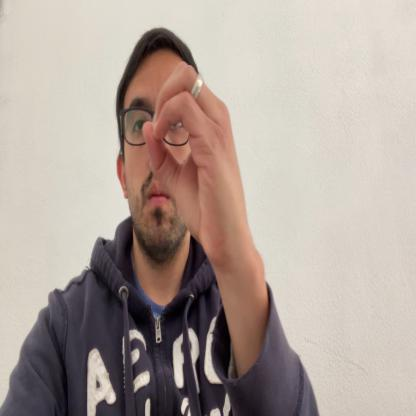O: (144, 60, 243, 270)
